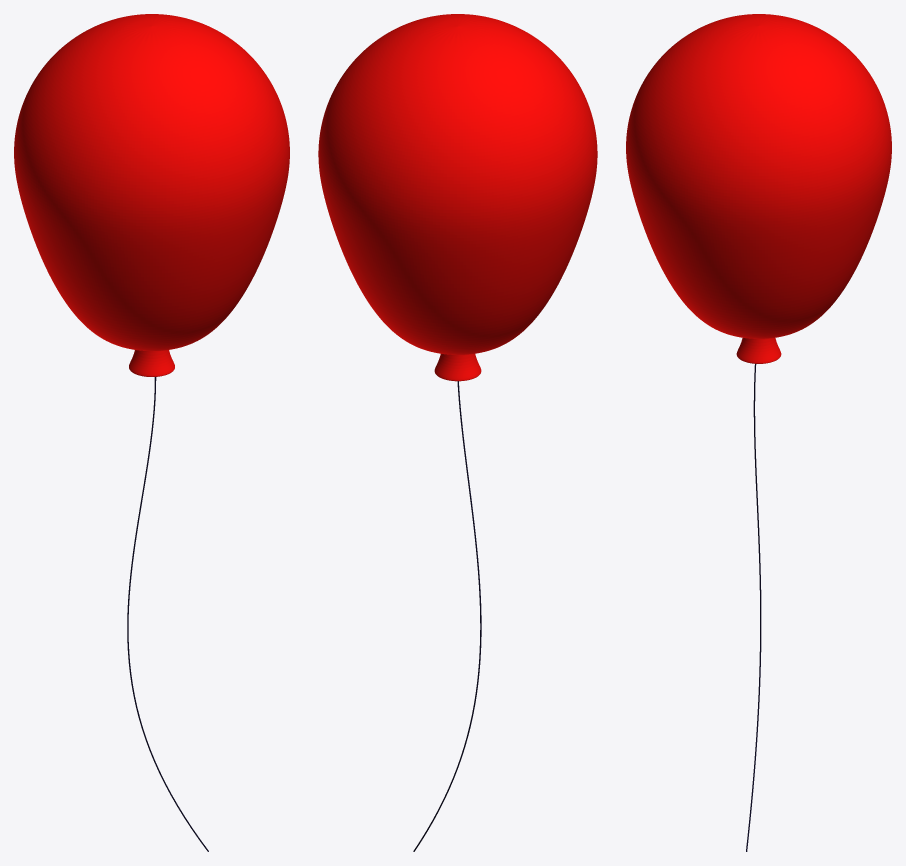
The model's file is Balloon_red.fbx.
The picture shows the model from 3 angles, left to right: view 1: azimuth 30°, elevation 25°; view 2: azimuth 150°, elevation 25°; view 3: azimuth 270°, elevation 25°; orthographic projection. The views are drawn at different scales.
Parts seen in each view (by area): view 1: Sphere.001, NurbsPath.001; view 2: Sphere.001, NurbsPath.001; view 3: Sphere.001, NurbsPath.001.
Boxes of the visible parts, <box> form: Sphere.001: <box>14,14,289,376</box>; NurbsPath.001: <box>127,377,208,851</box>; Sphere.001: <box>318,14,597,381</box>; NurbsPath.001: <box>413,381,481,851</box>; Sphere.001: <box>626,14,891,363</box>; NurbsPath.001: <box>746,364,761,851</box>.
Size of the model in its own units: 197 by 658 by 197.
